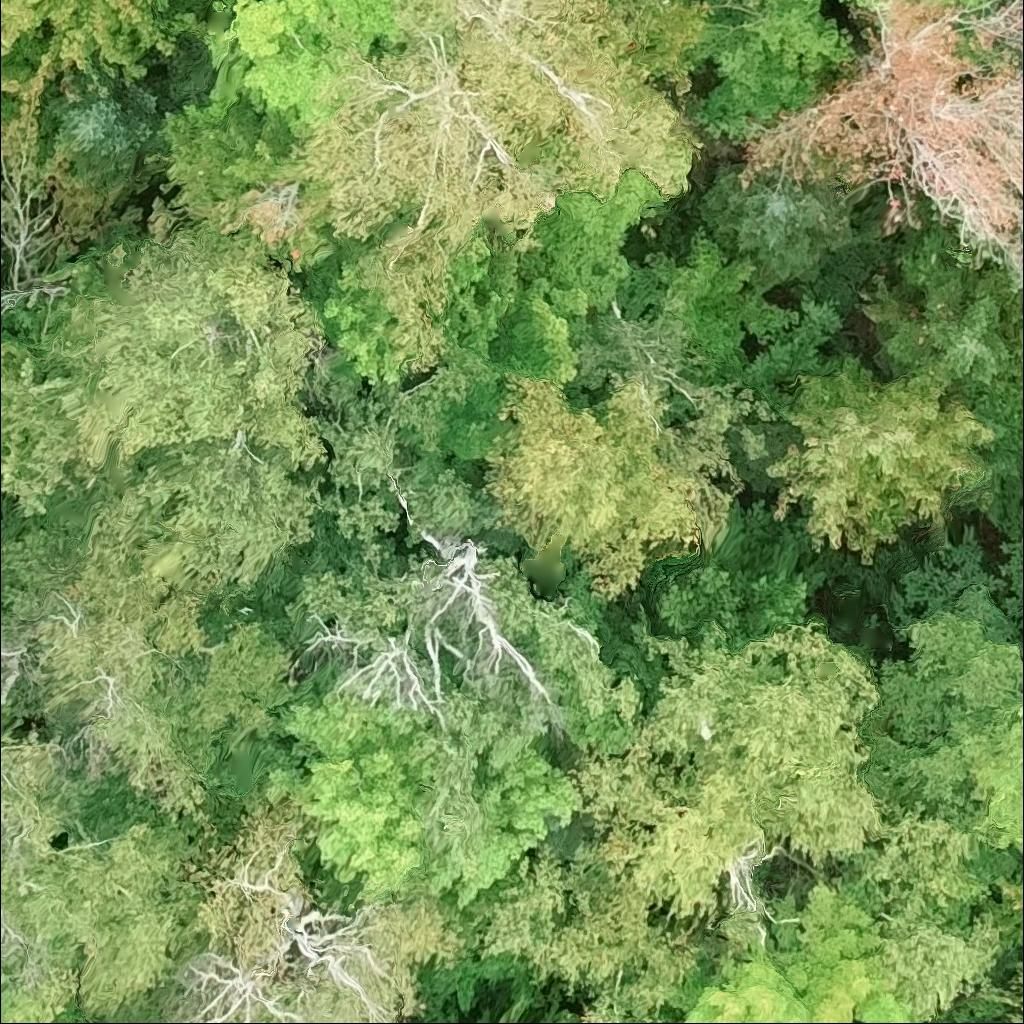crown: (292, 0, 713, 372), (0, 199, 331, 606), (568, 599, 903, 930), (735, 0, 1023, 253), (477, 372, 778, 605), (859, 521, 1023, 886), (750, 352, 1004, 563), (459, 839, 712, 1023), (844, 800, 1016, 1023), (669, 873, 913, 1023), (265, 688, 430, 906), (184, 0, 406, 143), (158, 104, 342, 276), (416, 541, 565, 730), (424, 745, 577, 910), (689, 0, 856, 140), (692, 158, 860, 296), (0, 0, 205, 99), (306, 626, 452, 735), (36, 60, 176, 170), (889, 302, 1007, 384), (989, 871, 1023, 944), (1004, 973, 1023, 1023), (820, 0, 871, 10), (941, 0, 982, 8), (1019, 958, 1023, 973), (921, 1022, 926, 1023)
